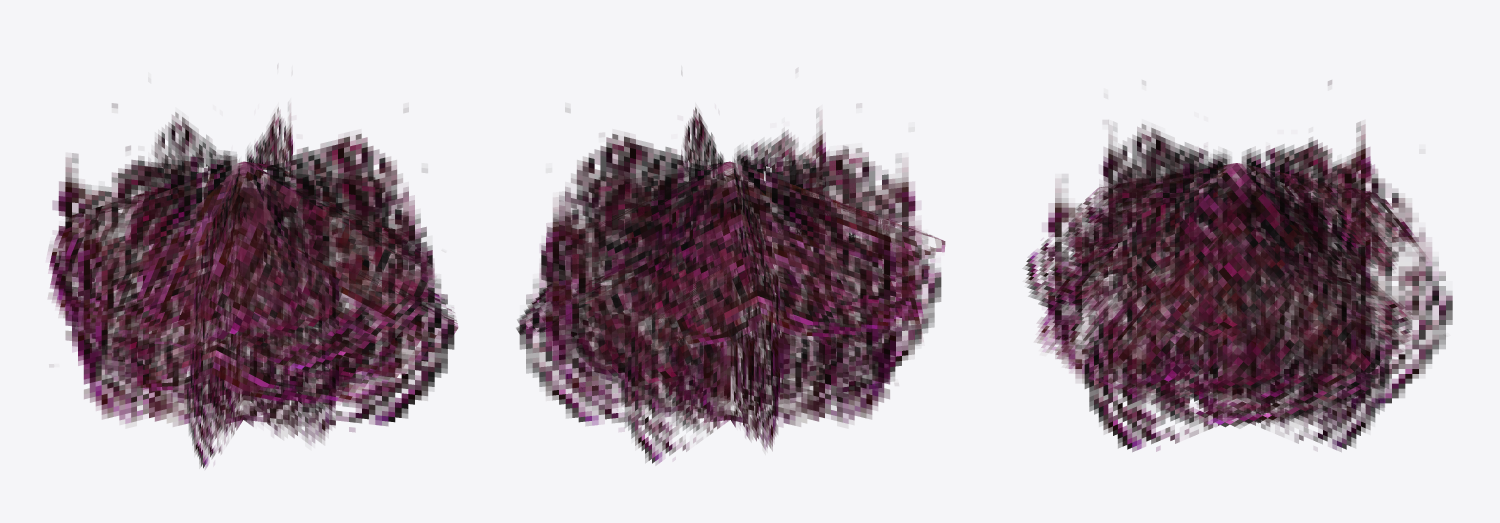
The model's file is Environment - Debris and Ruins - Rubble Mound - Debris - PMTmbWeed01_d.glb.
3 renders of one model, left to right at view 1: azimuth 30°, elevation 25°; view 2: azimuth 150°, elevation 25°; view 3: azimuth 270°, elevation 25°, orthographic.
Parts seen in each view (by area): view 1: PMTMBWEED01_D; view 2: PMTMBWEED01_D; view 3: PMTMBWEED01_D.
Part boxes in pixels (x1,y1,x2,y2): PMTMBWEED01_D: (47, 103, 458, 469); PMTMBWEED01_D: (516, 107, 945, 464); PMTMBWEED01_D: (1023, 80, 1452, 451).
Bounding box in the file's own units: 12.56 × 8.71 × 12.56.
1 material, 1 textured.
